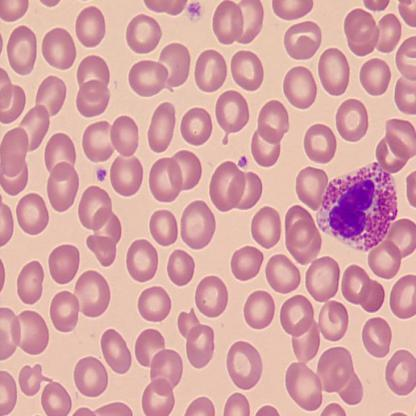Eosinophil: (317, 162, 399, 252)
